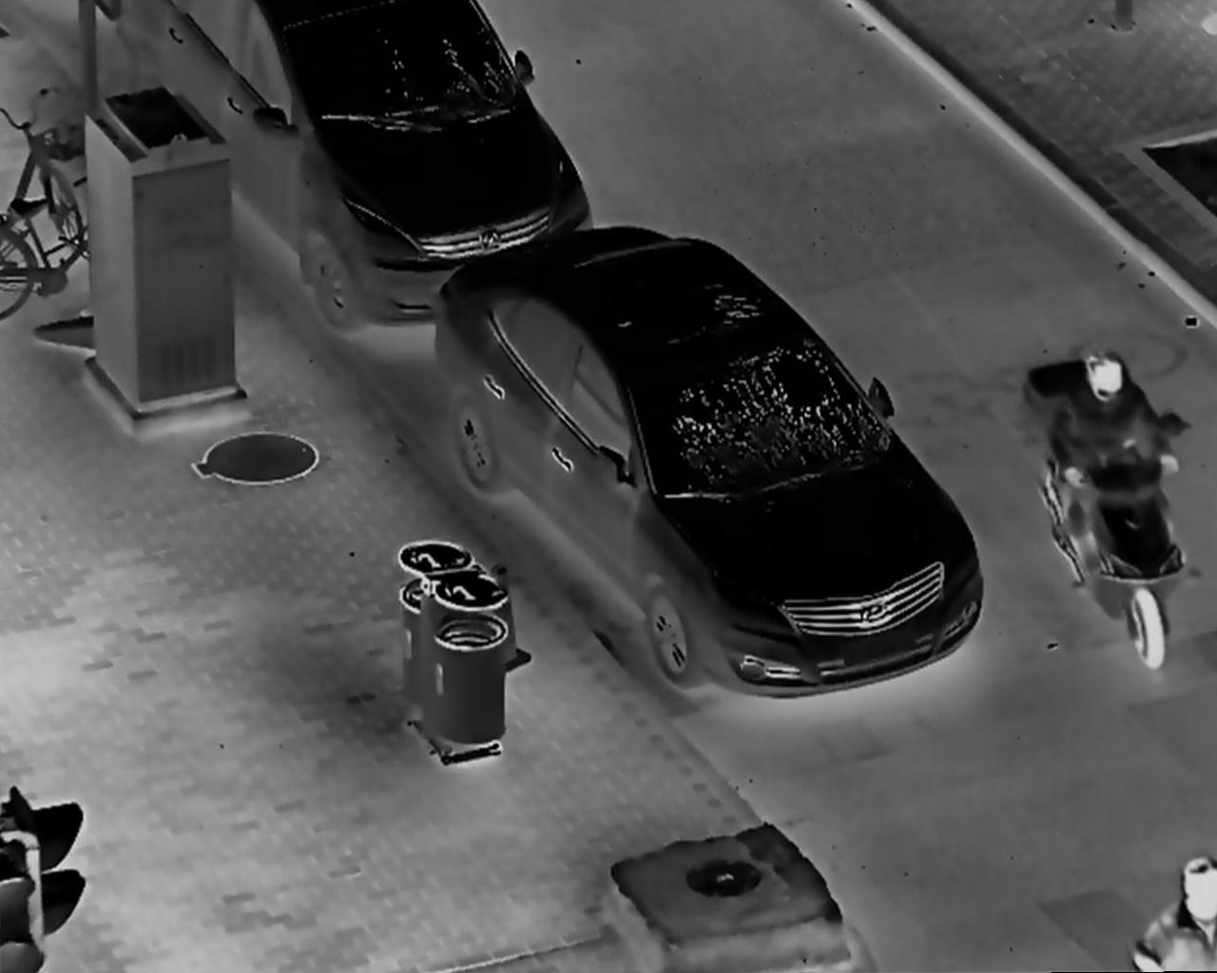person: (1050, 349, 1184, 578), (1125, 848, 1217, 973)
